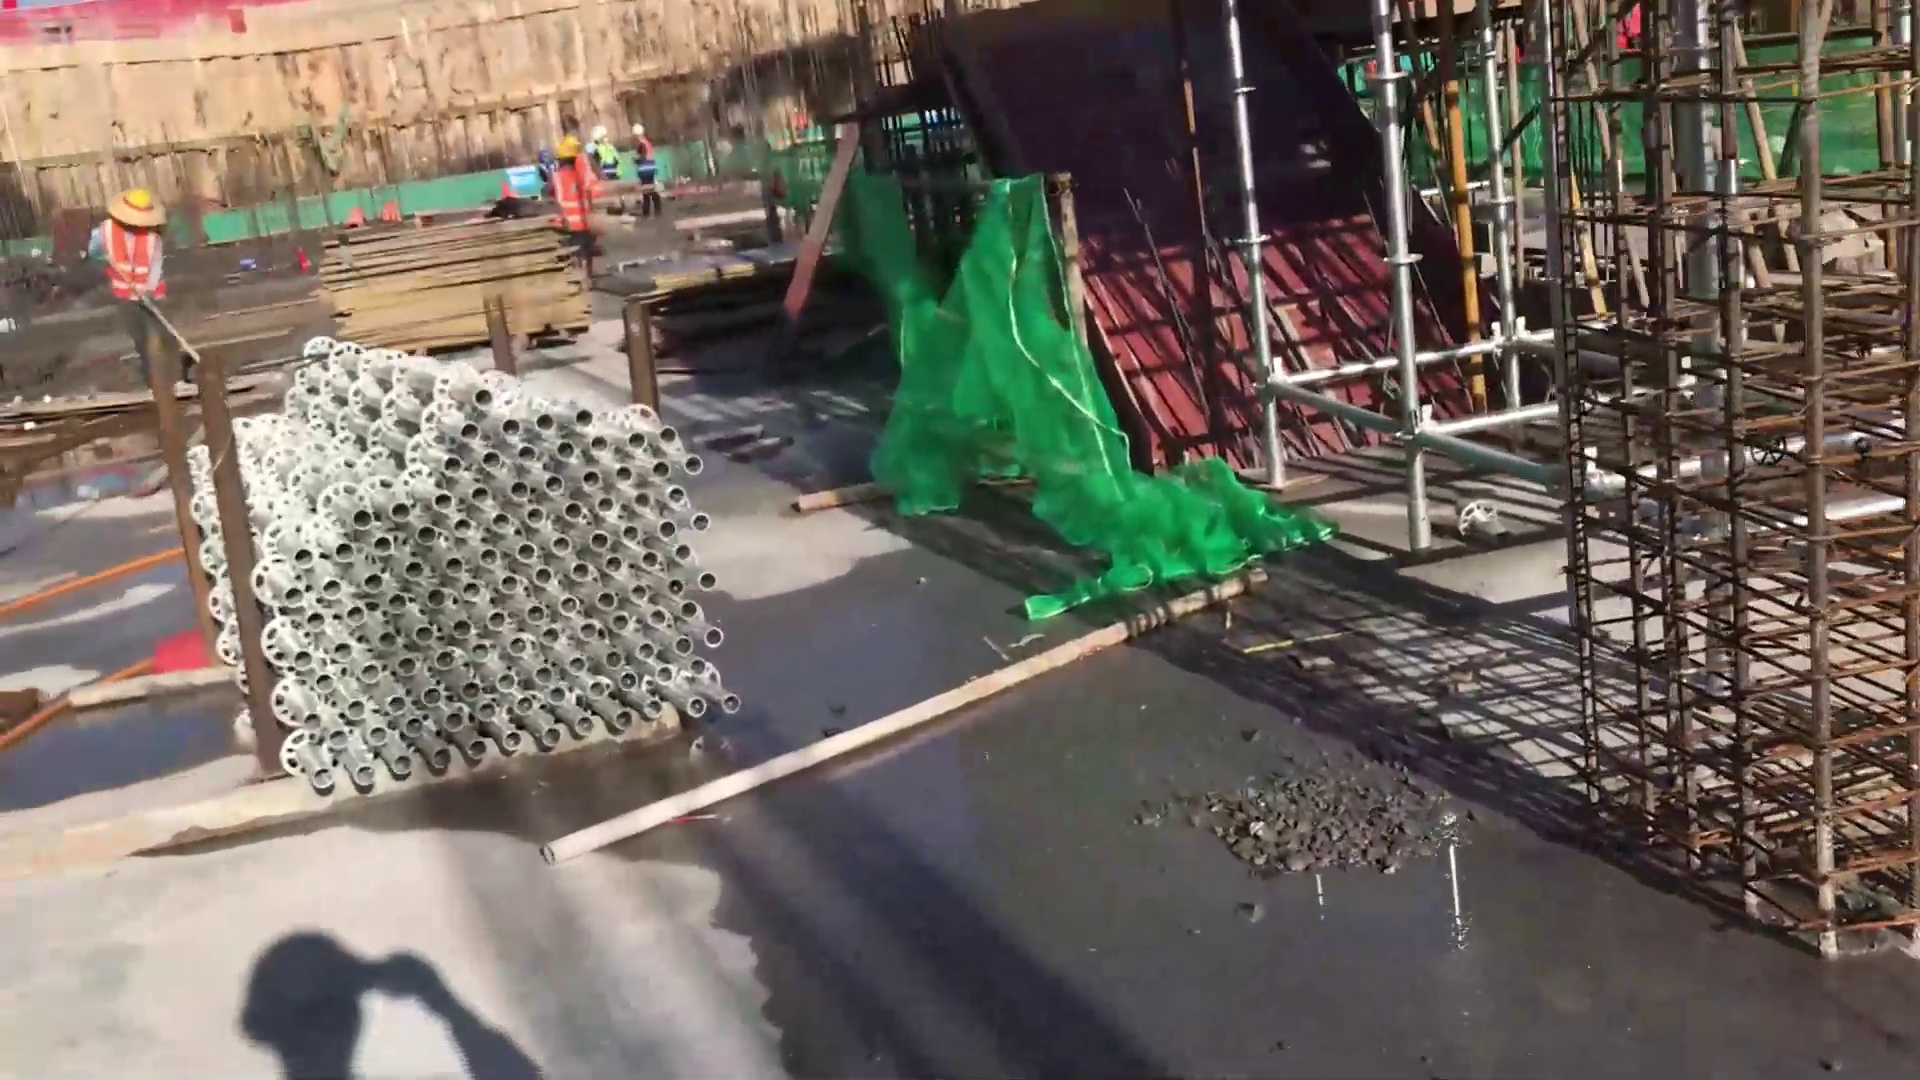board: (300, 198, 611, 369)
helmet: (124, 185, 158, 210), (554, 140, 577, 163), (627, 125, 649, 135)
person: (85, 183, 173, 365), (553, 141, 588, 250), (627, 123, 661, 221)
scaffold: (175, 323, 782, 839)
vest: (90, 214, 175, 308), (548, 157, 596, 234), (627, 137, 661, 190)
